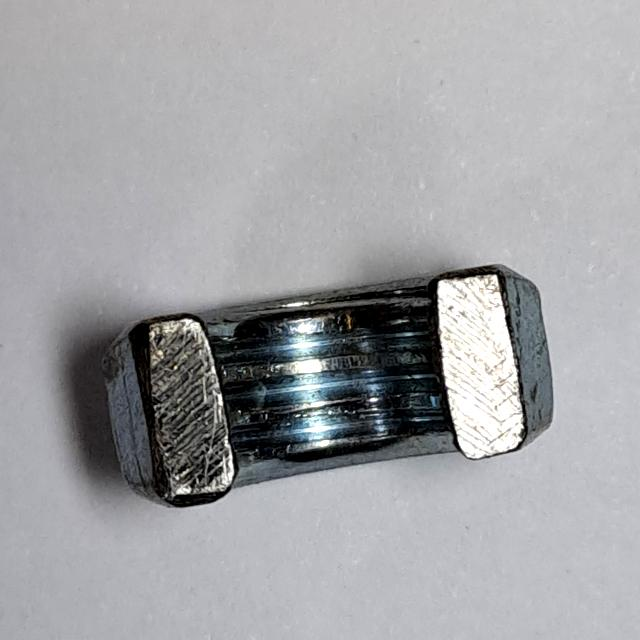Side-Fracture: (85, 250, 566, 520)
